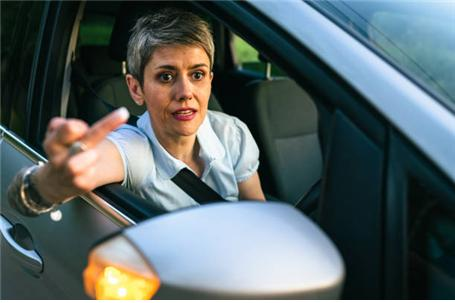insulting_gesture: (41, 104, 127, 199)
